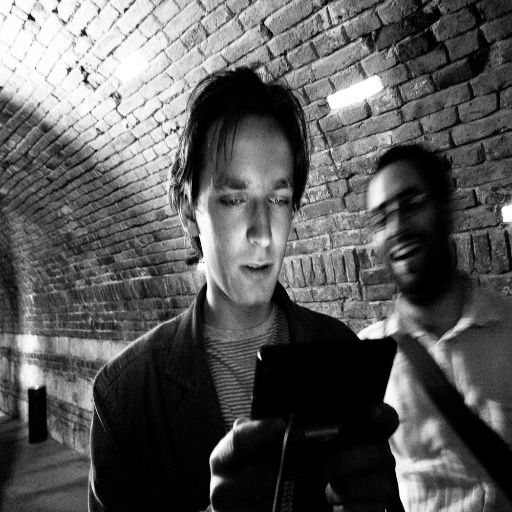hand: (207, 417, 287, 511)
